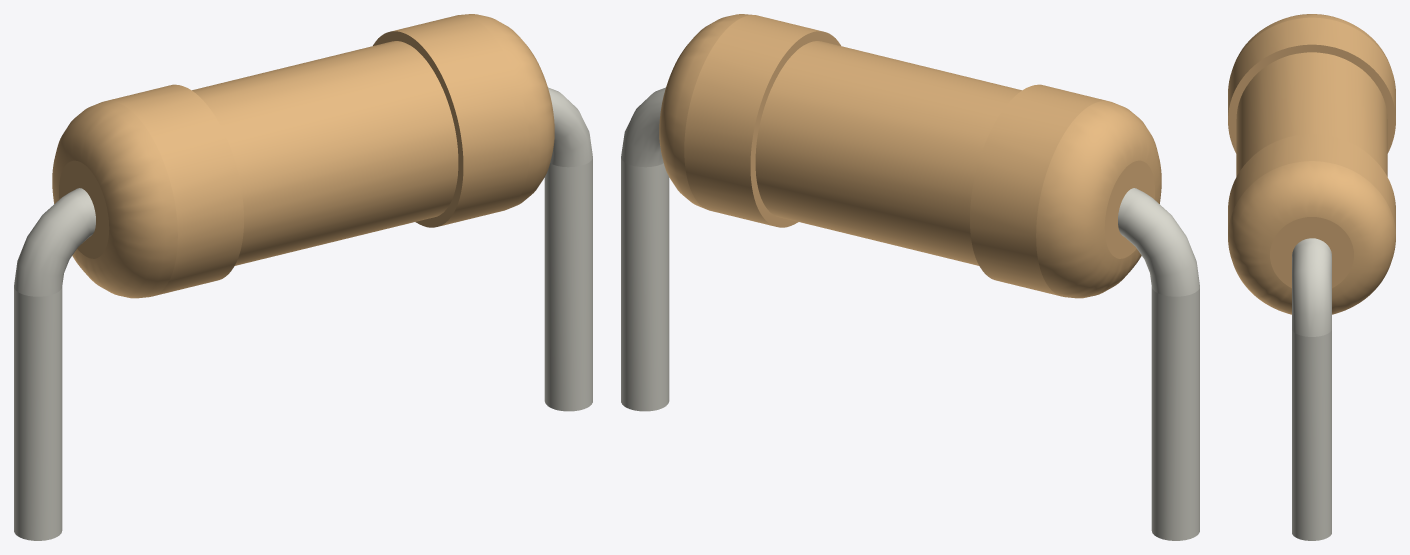
File: resistor-din0207.glb
3 views of the same model, side by side, from view 1: azimuth 30°, elevation 25°; view 2: azimuth 150°, elevation 25°; view 3: azimuth 270°, elevation 25° (orthographic). The views are drawn at different scales.
Visible parts, largest first — view 1: resistor-din0207; view 2: resistor-din0207; view 3: resistor-din0207.
Part boxes in pixels (x1=…): resistor-din0207: x1=14, y1=14, x2=592, y2=540; resistor-din0207: x1=621, y1=14, x2=1199, y2=540; resistor-din0207: x1=1228, y1=14, x2=1395, y2=540.
Bounding box in the file's own units: 8.21 × 5.5 × 2.5.
